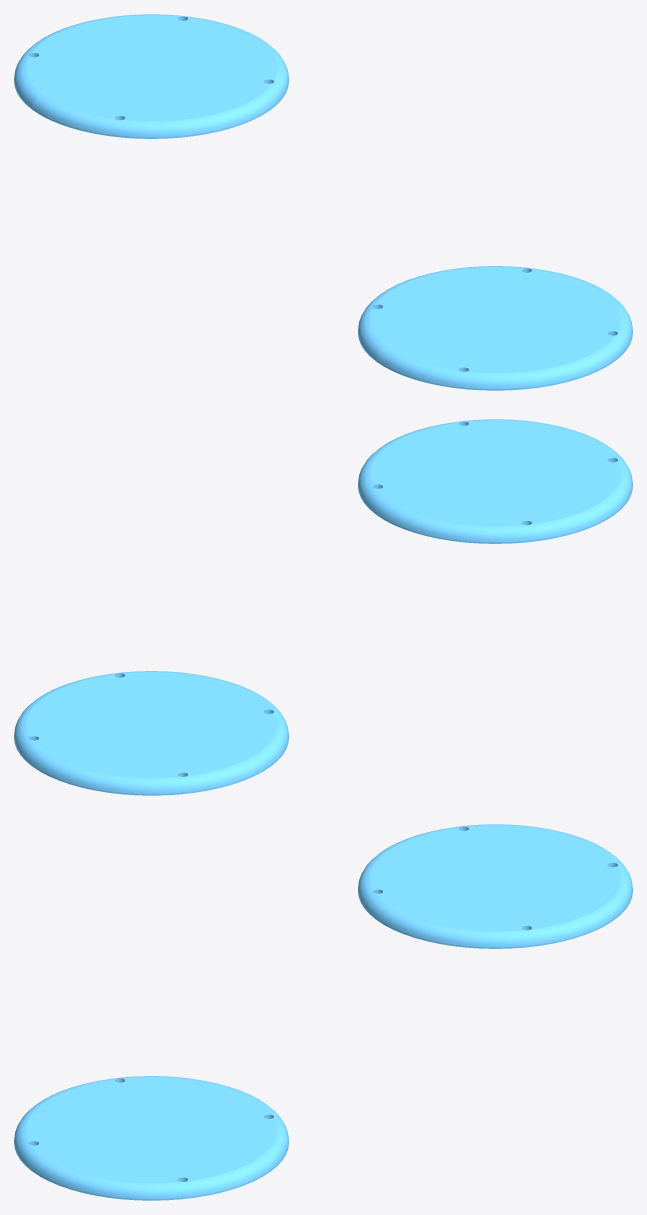
Rendered from BasePlastic.dae.
The picture shows the model from 3 angles, top to bottom: view 1: azimuth 30°, elevation 25°; view 2: azimuth 150°, elevation 25°; view 3: azimuth 330°, elevation 25°; orthographic projection.
Visible parts, largest first — view 1: YellowPlasticTopMesh; view 2: YellowPlasticTopMesh; view 3: YellowPlasticTopMesh.
Boxes of the visible parts, x1=… form: YellowPlasticTopMesh: x1=14, y1=14, x2=632, y2=390; YellowPlasticTopMesh: x1=14, y1=419, x2=632, y2=795; YellowPlasticTopMesh: x1=14, y1=824, x2=632, y2=1200.
Size of the model in its own units: 0.08 by 0.28 by 0.00502.
